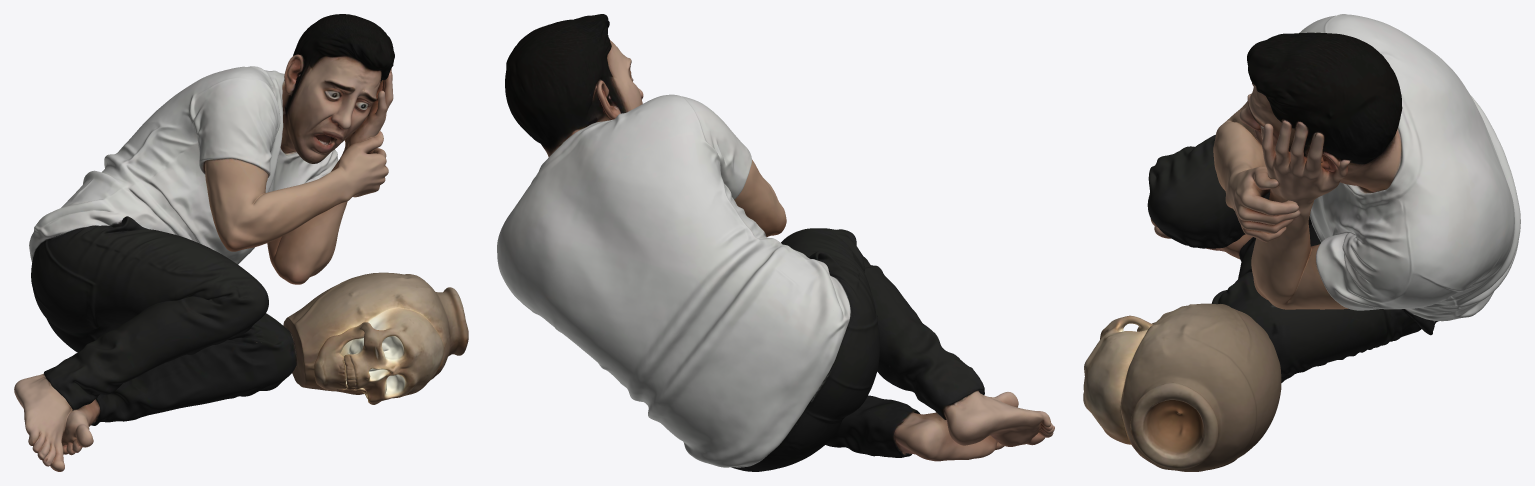
Rendered from 69-la-calavera-voladora-optimized.glb.
3 renders of one model, left to right at view 1: azimuth 30°, elevation 25°; view 2: azimuth 150°, elevation 25°; view 3: azimuth 270°, elevation 25°, orthographic. The views are drawn at different scales.
Parts seen in each view (by area): view 1: tripo_node_82820659-a528-4010-b807-26c19633a71e; view 2: tripo_node_82820659-a528-4010-b807-26c19633a71e; view 3: tripo_node_82820659-a528-4010-b807-26c19633a71e.
Boxes of the visible parts, x1=… form: tripo_node_82820659-a528-4010-b807-26c19633a71e: x1=14, y1=14, x2=468, y2=471; tripo_node_82820659-a528-4010-b807-26c19633a71e: x1=497, y1=14, x2=1054, y2=471; tripo_node_82820659-a528-4010-b807-26c19633a71e: x1=1083, y1=14, x2=1520, y2=471.
Bounding box in the file's own units: 1 × 0.7136 × 0.6728.
Materials: 1 (1 with a texture image).
